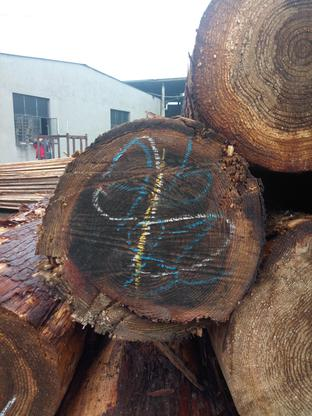mood: (36, 119, 265, 341)
